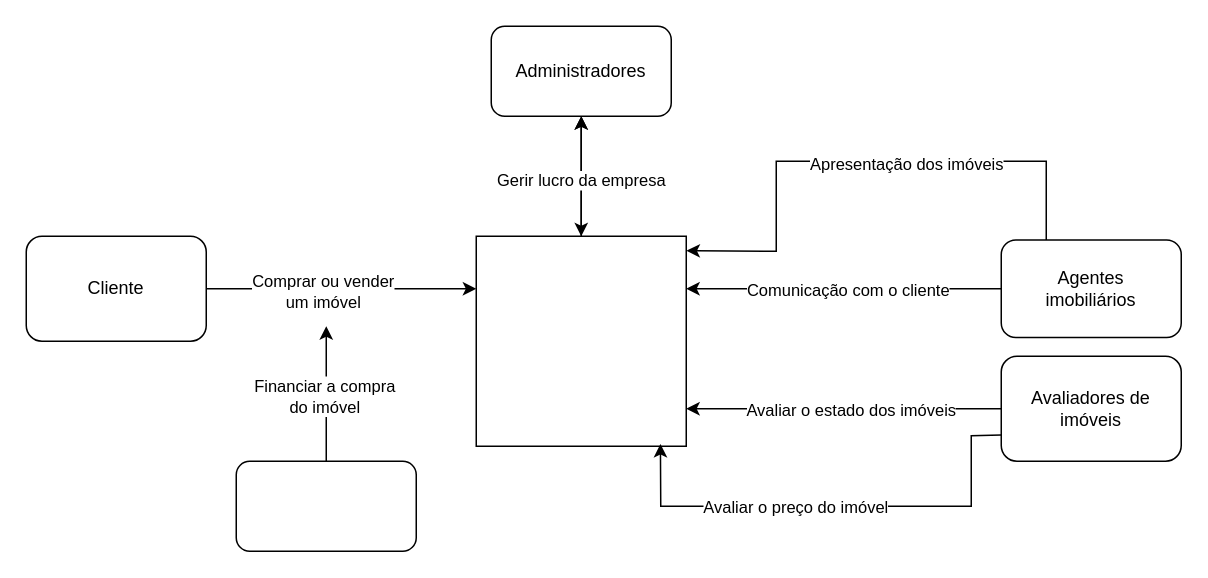
Image size: 1208x578. Some labels were removed from this diagram. Here are the shapes that lost their labels. From the top down, the centre of each, then its label:
pixel 580 340: Projeto de Gestão de Transações Imobiliárias
pixel 325 505: Instituições finançeiras
